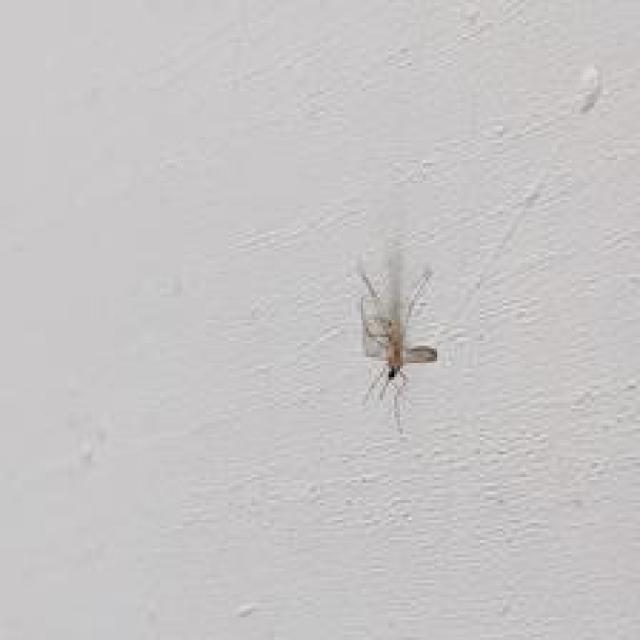Culex: (351, 237, 440, 432)
